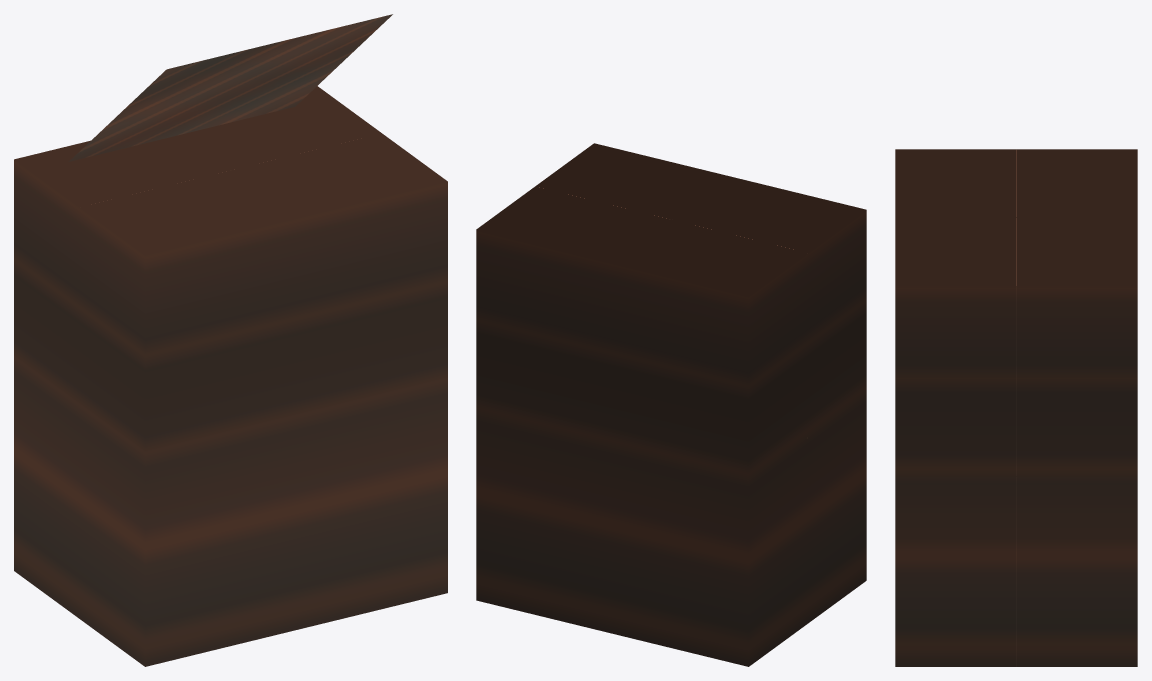
File: trap_t6_motion_sensor.glb
3 renders of one model, left to right at view 1: azimuth 30°, elevation 25°; view 2: azimuth 150°, elevation 25°; view 3: azimuth 270°, elevation 25°, orthographic. The views are drawn at different scales.
Visible parts, largest first — view 1: trap_t6_motion_sensor; view 2: trap_t6_motion_sensor; view 3: trap_t6_motion_sensor.
Part boxes in pixels (x1,y1,x2,y2): trap_t6_motion_sensor: (14, 14, 447, 666); trap_t6_motion_sensor: (476, 143, 866, 666); trap_t6_motion_sensor: (895, 149, 1137, 666).
Bounding box in the file's own units: 0.2 × 0.364 × 0.15.
Materials: 1 (1 with a texture image).
